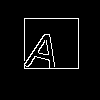A: (24, 21, 66, 74)
